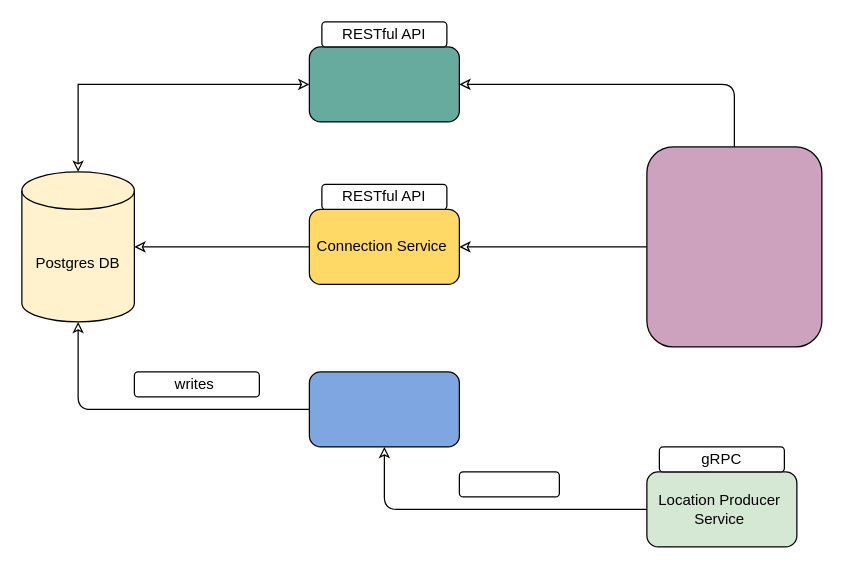
Some shapes in this 844 by 569 pixel diagram are drawn without their labels. Here are the shapes that lost their labels. From the top down, the centre of each, then its label:
At point (383, 84): "Person Service".
At point (734, 246): "Frontend Service".
At point (383, 409): "Location Consumer Service".
At point (508, 484): "Kafka Topic".
